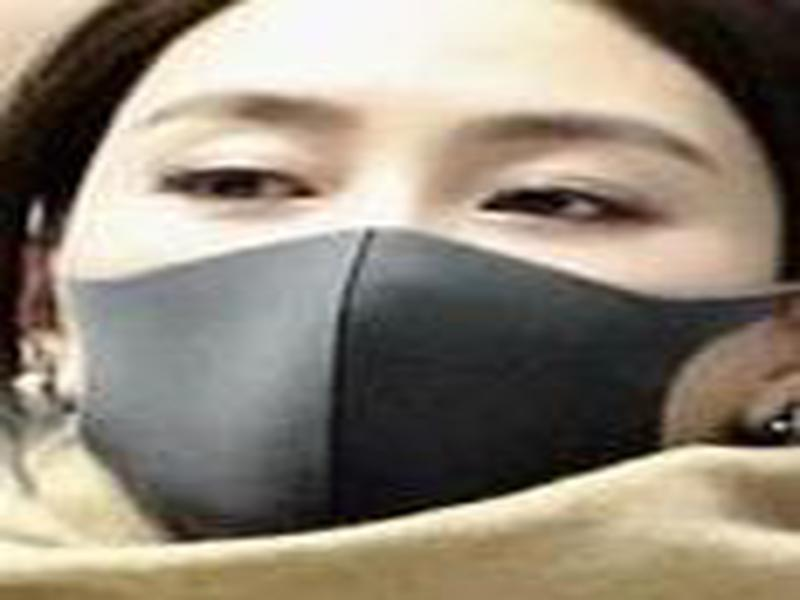with_mask: (1, 3, 793, 551)
